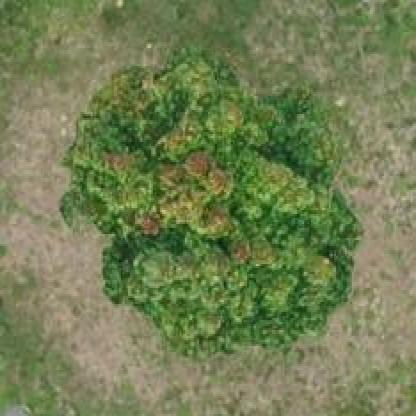Deciduous Tree: (52, 30, 380, 358)
